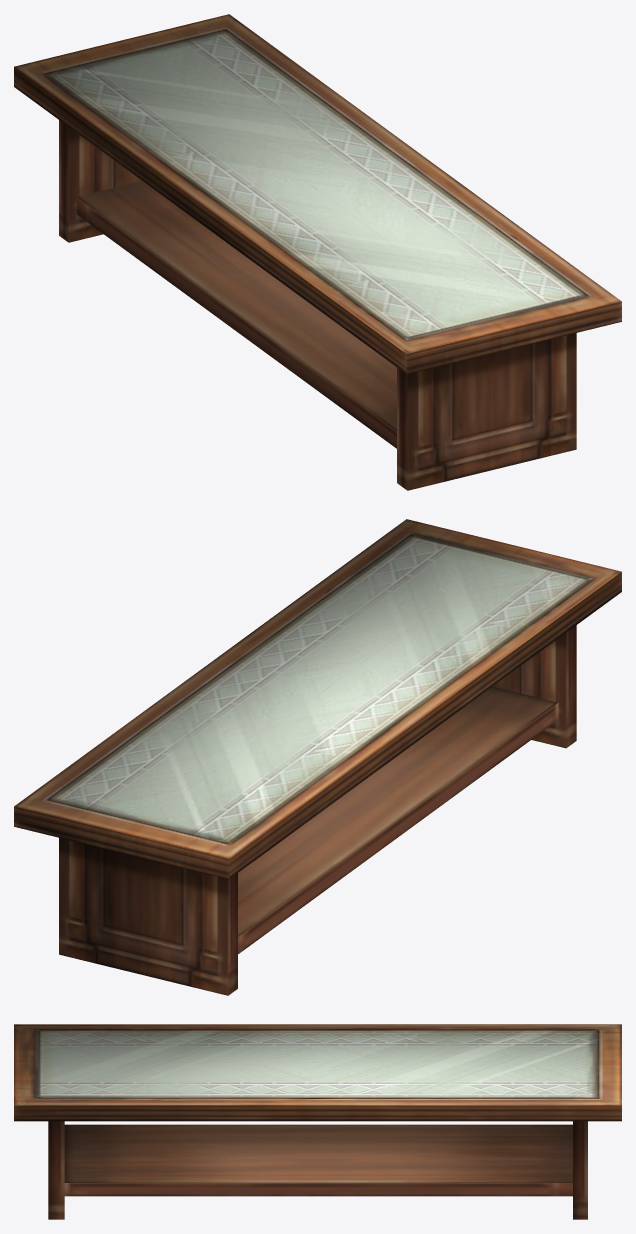
The model's file is a_SCtable05.glb.
3 views of the same model, one above another, from view 1: azimuth 30°, elevation 25°; view 2: azimuth 150°, elevation 25°; view 3: azimuth 270°, elevation 25° (orthographic). The views are drawn at different scales.
Visible parts, largest first — view 1: a_SCtable05; view 2: a_SCtable05; view 3: a_SCtable05.
Boxes of the visible parts, x1,y1,x2,y2 form: a_SCtable05: [14, 14, 621, 490]; a_SCtable05: [14, 519, 621, 995]; a_SCtable05: [14, 1024, 621, 1219].
Size of the model in its own units: 0.9317 by 0.6555 by 2.94.
Materials: 1 (1 with a texture image).
